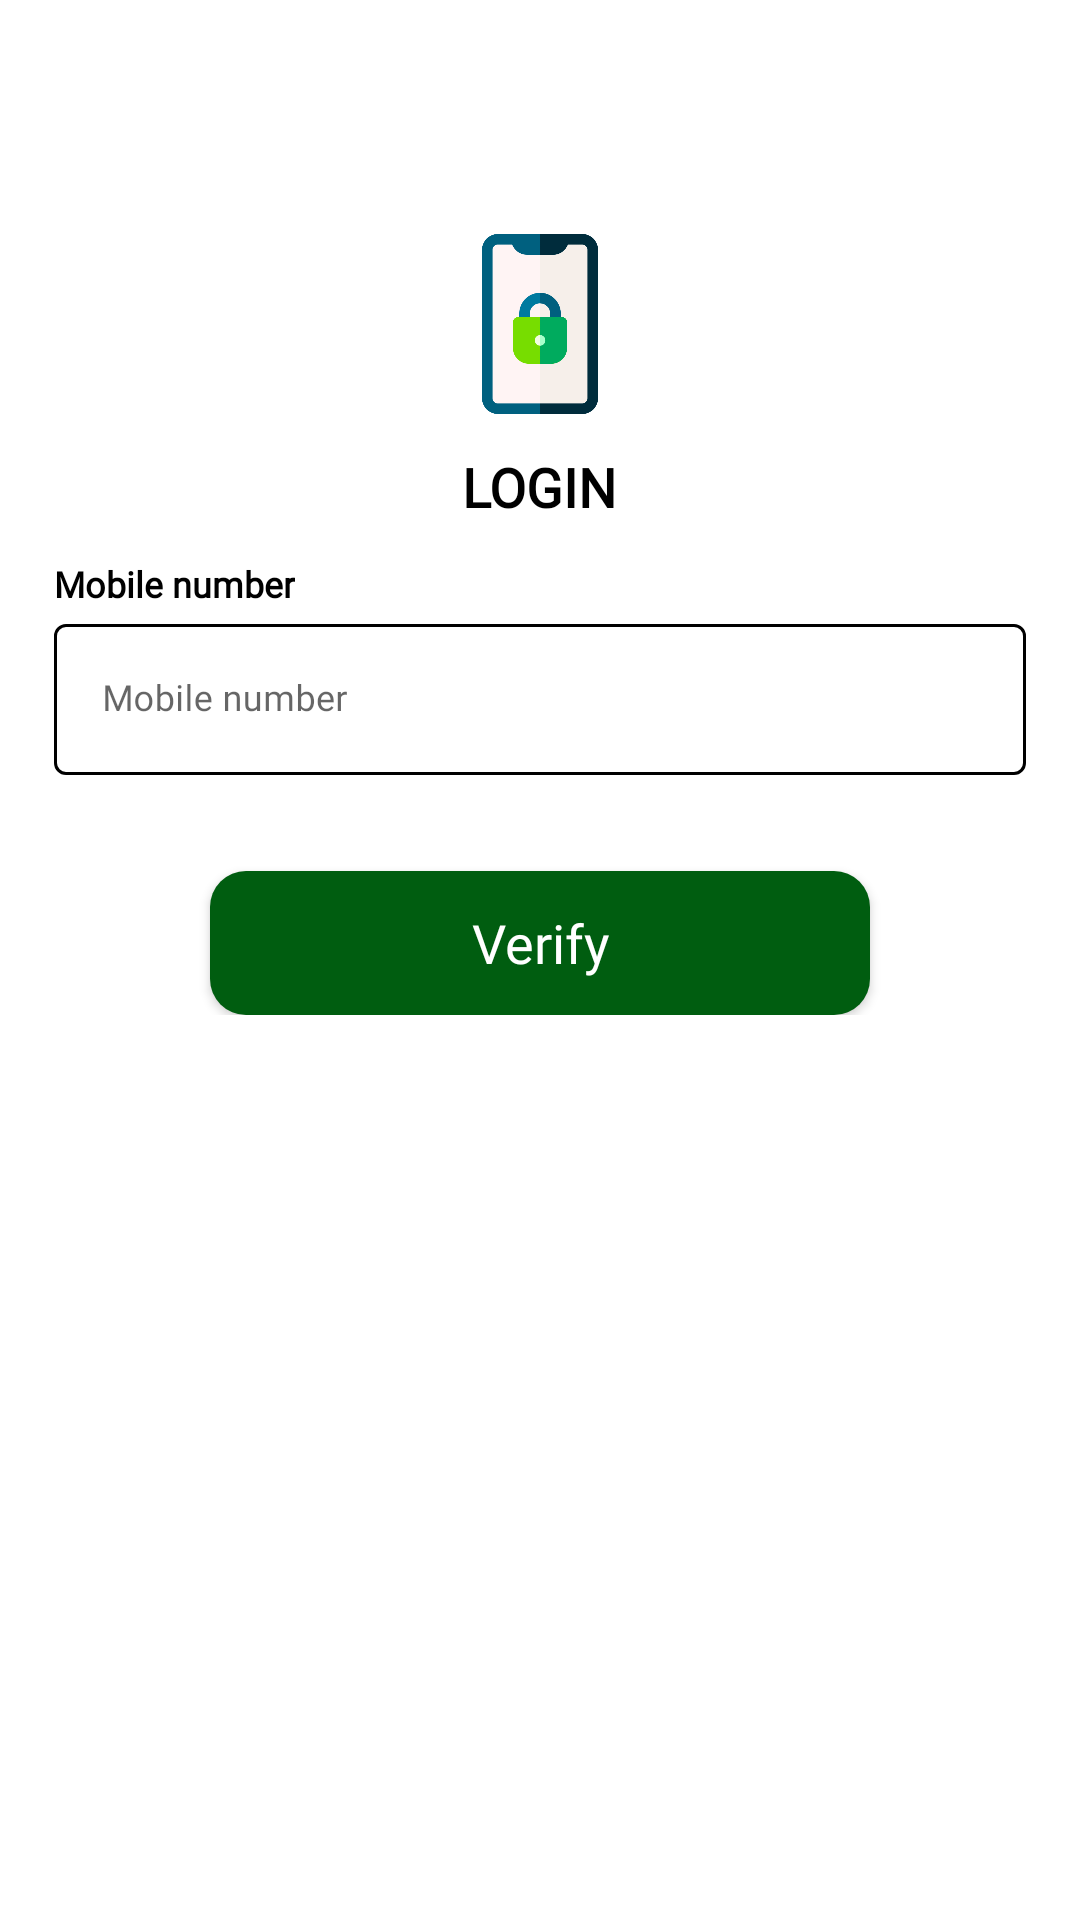

Point at icon controls on the screen. Image size 1080px x 1920px, points as (x=x, y=y).
smartphone: (x=540, y=324)
